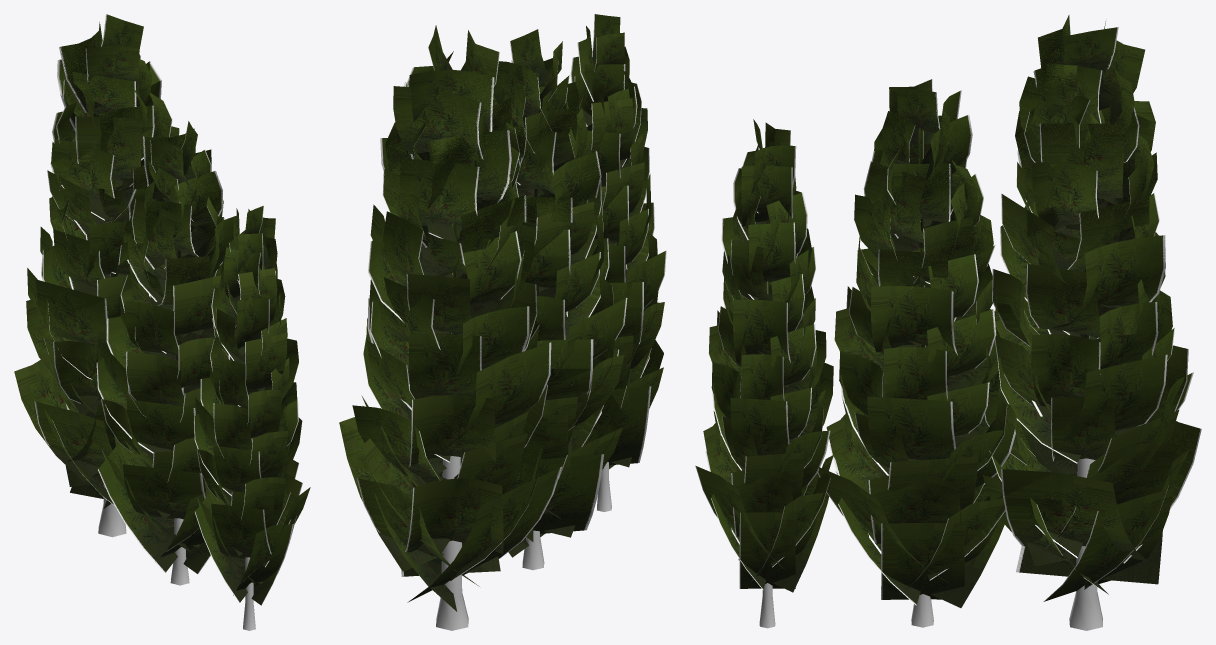
The model's file is Cypress_v1.FBX.
3 views of the same model, side by side, from view 1: azimuth 30°, elevation 25°; view 2: azimuth 150°, elevation 25°; view 3: azimuth 270°, elevation 25° (orthographic). The views are drawn at different scales.
Parts seen in each view (by area): view 1: Cypress_v1_2, Cypress_v1_3, Cypress_v1_1; view 2: Cypress_v1_3, Cypress_v1_2, Cypress_v1_1; view 3: Cypress_v1_3, Cypress_v1_2, Cypress_v1_1.
Part boxes in pixels (x1=…): Cypress_v1_2: x1=96, y1=120, x2=235, y2=585; Cypress_v1_3: x1=14, y1=14, x2=179, y2=537; Cypress_v1_1: x1=194, y1=205, x2=310, y2=630; Cypress_v1_3: x1=339, y1=25, x2=562, y2=630; Cypress_v1_2: x1=493, y1=29, x2=627, y2=570; Cypress_v1_1: x1=570, y1=14, x2=666, y2=511; Cypress_v1_3: x1=982, y1=14, x2=1201, y2=630; Cypress_v1_2: x1=818, y1=79, x2=1015, y2=627; Cypress_v1_1: x1=695, y1=119, x2=833, y2=628.
Bounding box in the file's own units: 5.84 × 17.22 × 13.17.
